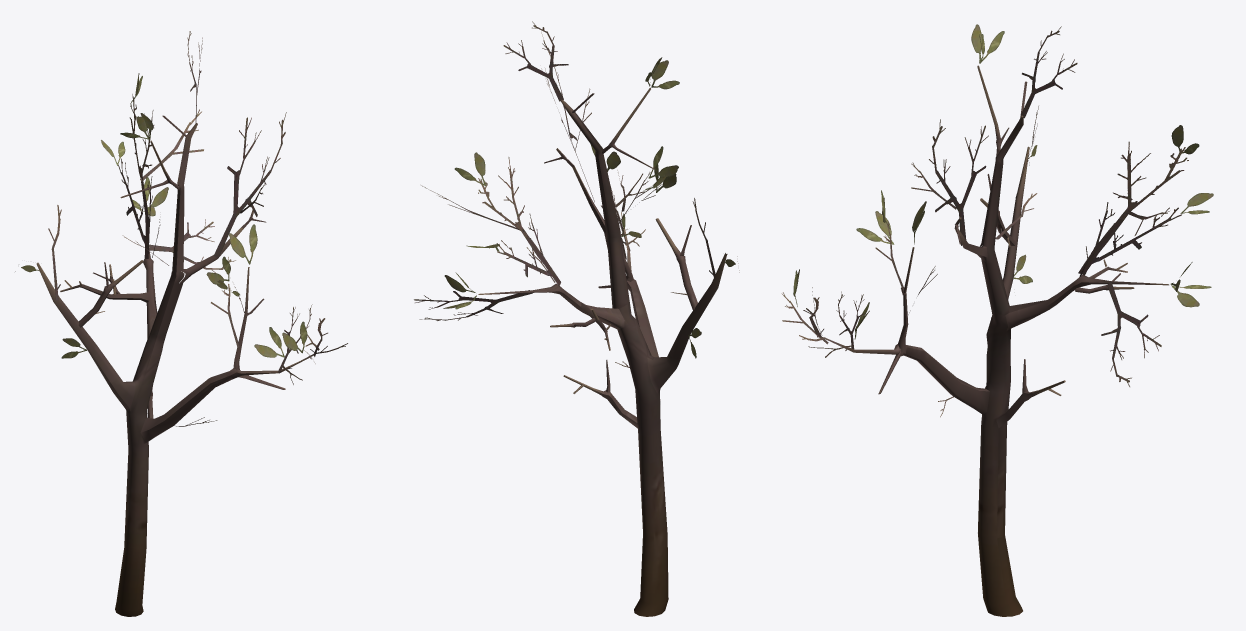
The picture shows the model from 3 angles, left to right: view 1: azimuth 30°, elevation 25°; view 2: azimuth 150°, elevation 25°; view 3: azimuth 270°, elevation 25°; orthographic projection. The views are drawn at different scales.
Parts seen in each view (by area): view 1: body0_model0_lod0_mesh0; view 2: body0_model0_lod0_mesh0; view 3: body0_model0_lod0_mesh0.
Part boxes in pixels (x1=…): body0_model0_lod0_mesh0: x1=15, y1=31, x2=347, y2=616; body0_model0_lod0_mesh0: x1=414, y1=21, x2=739, y2=616; body0_model0_lod0_mesh0: x1=781, y1=24, x2=1213, y2=616.
Size of the model in its own units: 123 by 236 by 155.
1 material, 1 textured.
